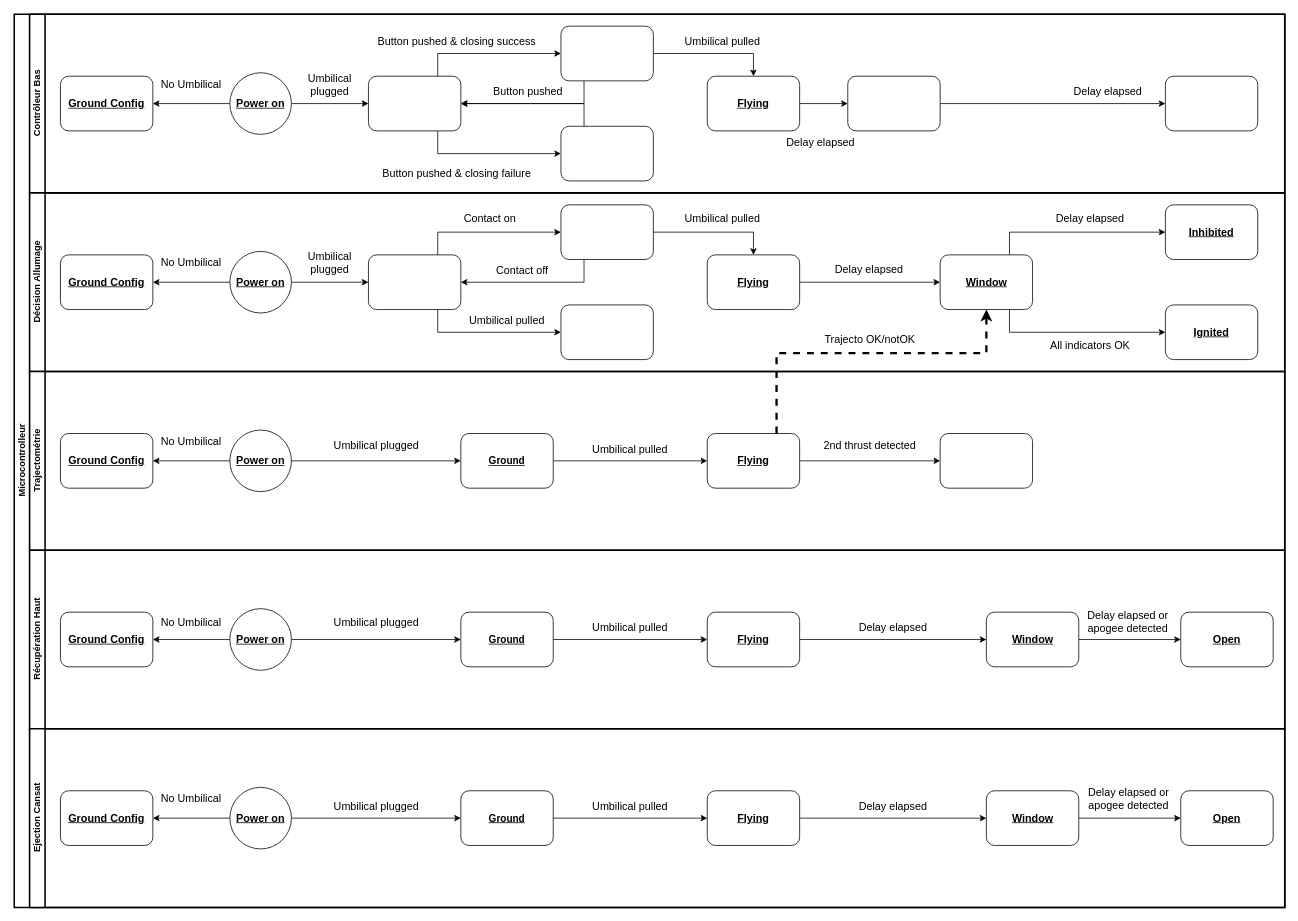
Image size: 1298x921. Some labels were removed from this diagram. The centre of each missing label's shape, as x and y in pixels:
"2nd Flying" belongs at point (986, 460).
"False Start" belongs at point (606, 332).
"Ground Closed" belongs at point (606, 53).
"Ground Contact" belongs at point (606, 231).
"Ground Error" belongs at point (606, 153).
"Ground Open" belongs at point (414, 103).
"Ground Separated" belongs at point (414, 282).
"Para Ejected" belongs at point (1211, 103).
"Separated" belongs at point (893, 103).
